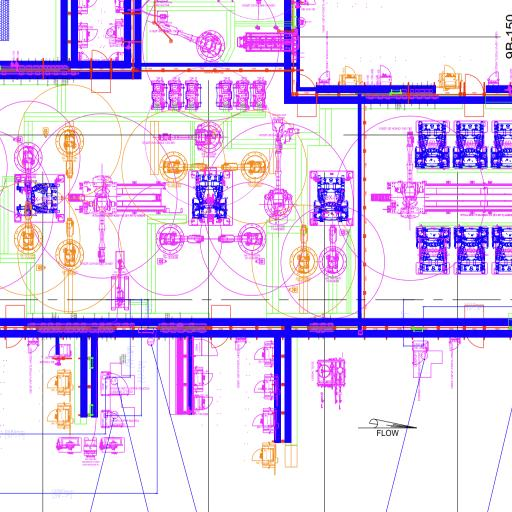robot: (154, 12, 226, 63), (388, 130, 428, 221), (90, 174, 118, 268), (154, 120, 223, 154), (53, 217, 86, 275), (317, 225, 349, 281), (11, 200, 43, 254), (216, 222, 266, 256), (12, 142, 44, 194), (54, 125, 84, 179), (155, 224, 204, 255), (223, 156, 268, 182)
